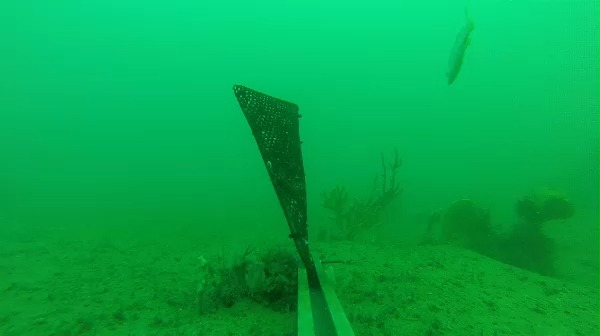fish: (442, 1, 479, 94)
